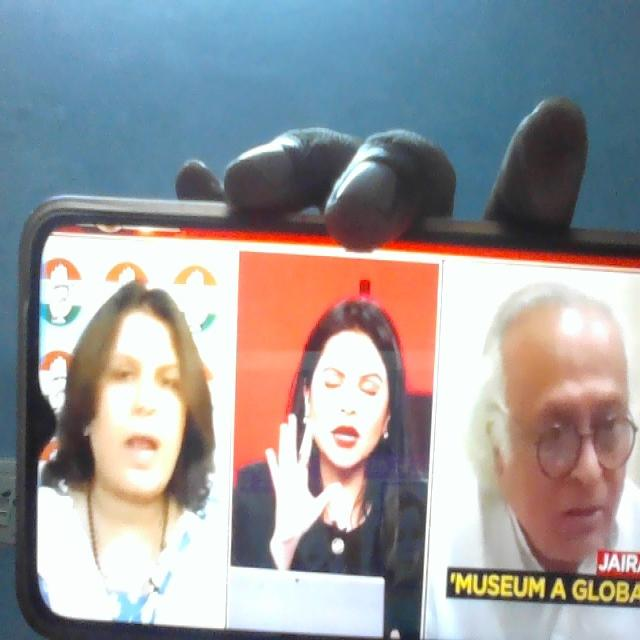fake: (73, 259, 201, 500), (1, 1, 1, 1)
